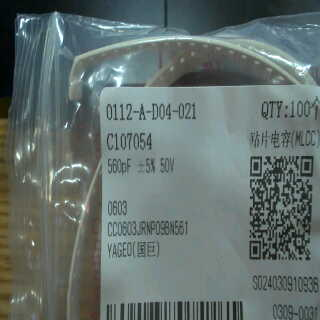560pF: (105, 155, 134, 181)
